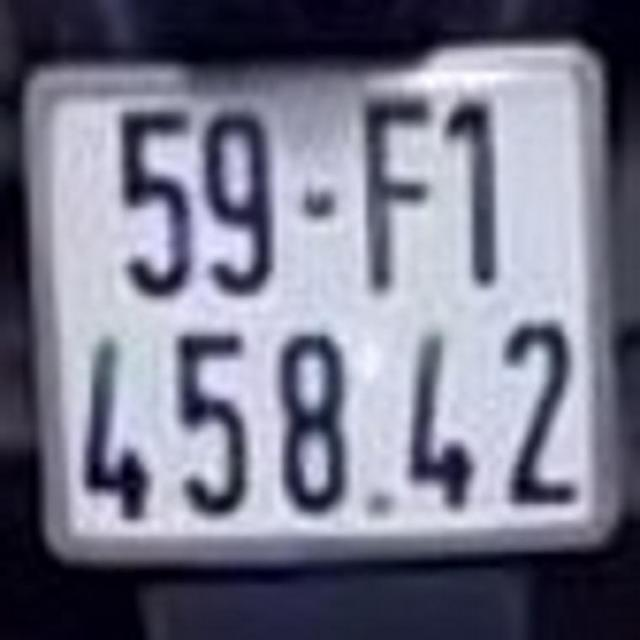1: (441, 88, 512, 293)
2: (496, 312, 583, 505)
4: (396, 322, 482, 512), (79, 326, 157, 524)
5: (170, 322, 253, 521), (113, 96, 194, 293)
8: (271, 322, 356, 516)
9: (203, 98, 277, 296)
F: (358, 84, 438, 294)
